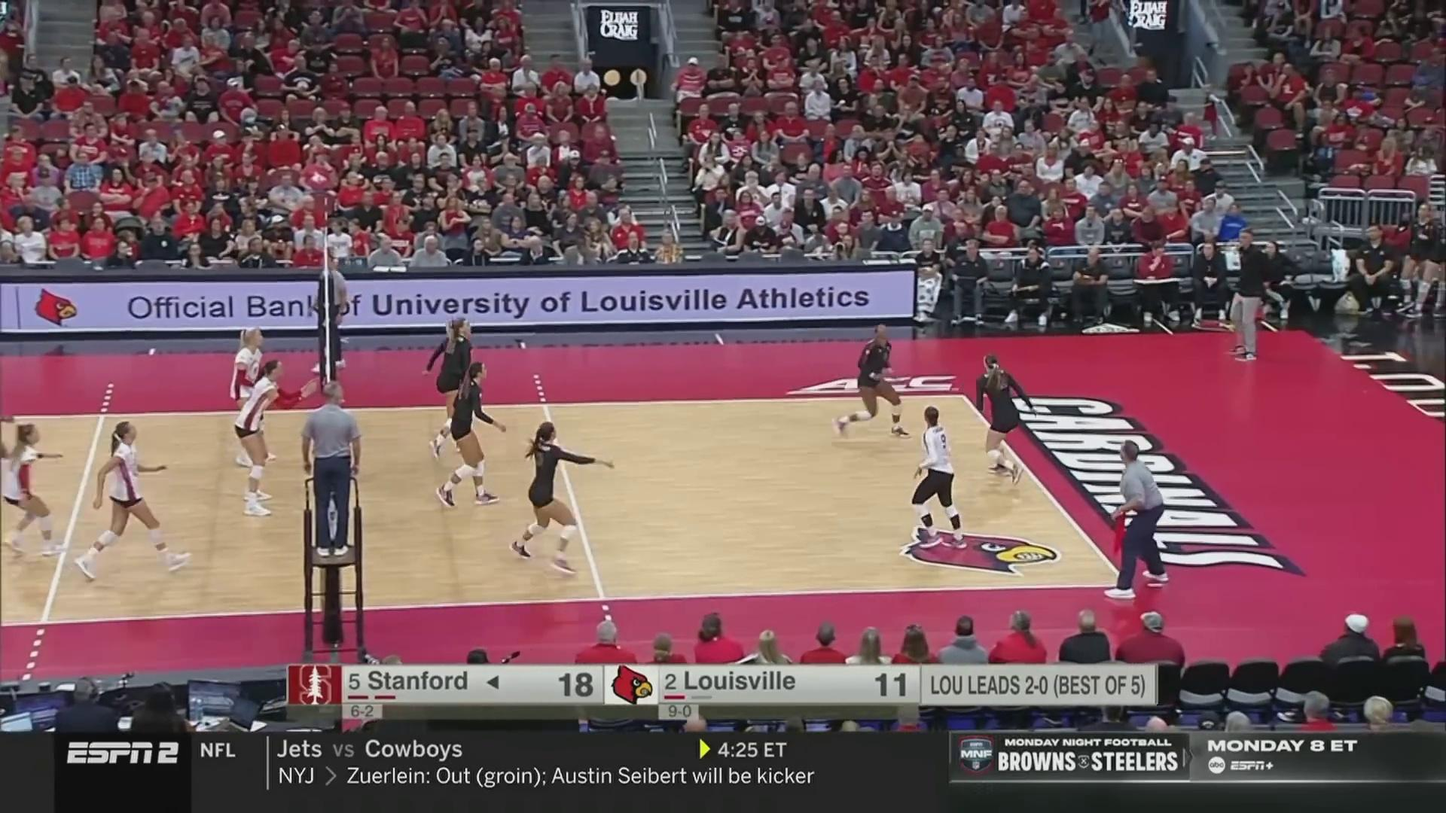player: (75, 420, 190, 574), (511, 425, 601, 572), (237, 360, 310, 517), (438, 363, 506, 510), (906, 407, 966, 552), (835, 323, 909, 440), (1, 423, 64, 555), (972, 354, 1034, 481), (422, 317, 479, 455), (229, 325, 282, 466)
refree: (1103, 439, 1173, 598), (301, 390, 360, 552), (314, 258, 351, 370)
